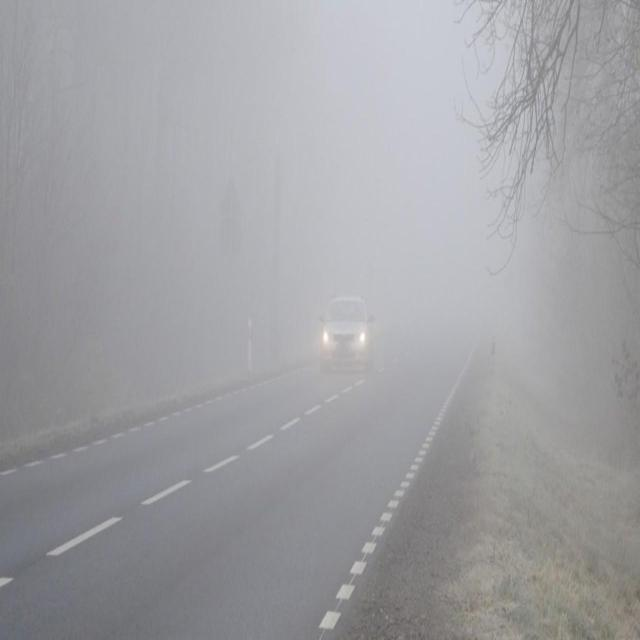Car: (316, 274, 372, 384)
